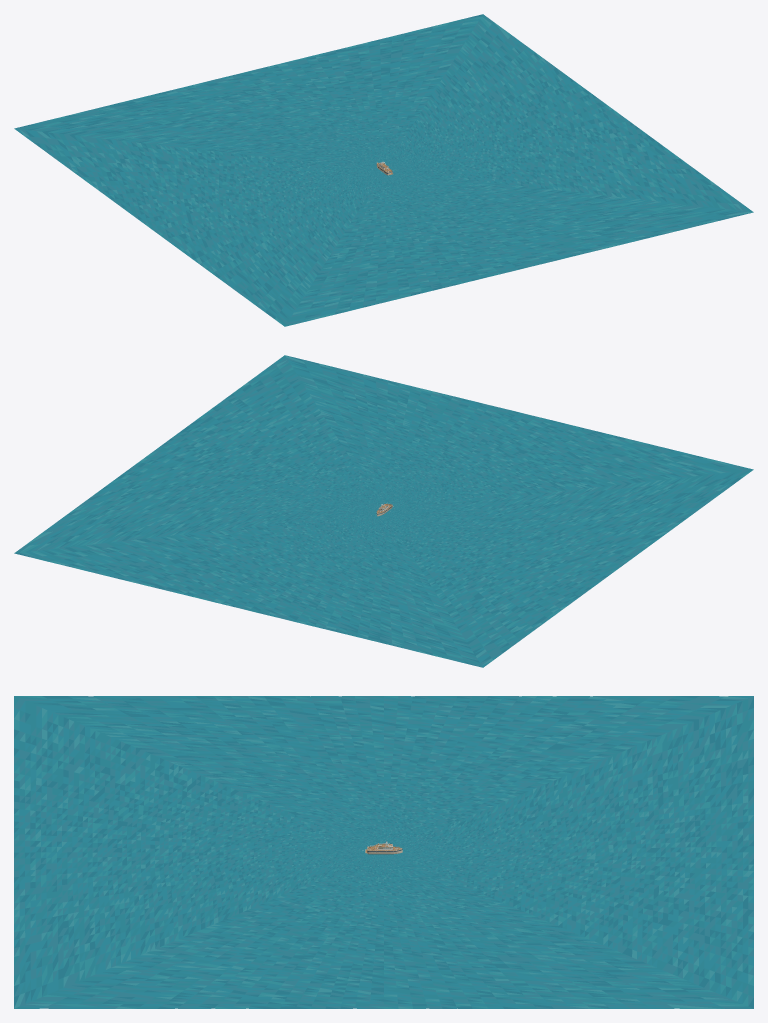
File: Environment.fbx
The picture shows the model from 3 angles, top to bottom: view 1: azimuth 30°, elevation 25°; view 2: azimuth 150°, elevation 25°; view 3: azimuth 270°, elevation 25°; orthographic projection. The views are drawn at different scales.
Visible parts, largest first — view 1: Water_Ocean; view 2: Water_Ocean; view 3: Water_Ocean.
Boxes of the visible parts, box(x1,y1,x2,y2) form: Water_Ocean: box(14, 14, 753, 326); Water_Ocean: box(14, 355, 753, 667); Water_Ocean: box(14, 696, 753, 1008).
Bounding box in the file's own units: 600 × 11.5 × 600.
